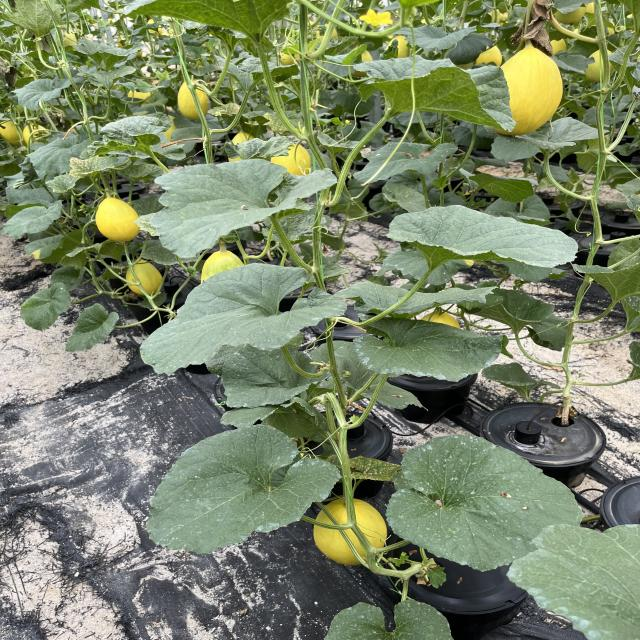CMV: (395, 208, 577, 274), (63, 153, 124, 183)
SLCV: (83, 118, 163, 157)
downy mildew: (151, 160, 328, 262), (376, 56, 520, 132), (147, 0, 295, 43), (359, 140, 467, 188), (591, 242, 640, 318)
powdery mildew: (382, 428, 564, 564), (138, 427, 314, 552), (150, 273, 318, 370), (517, 520, 640, 636), (364, 326, 507, 386), (13, 281, 71, 334), (62, 307, 121, 358), (19, 73, 67, 114), (85, 63, 137, 95)
